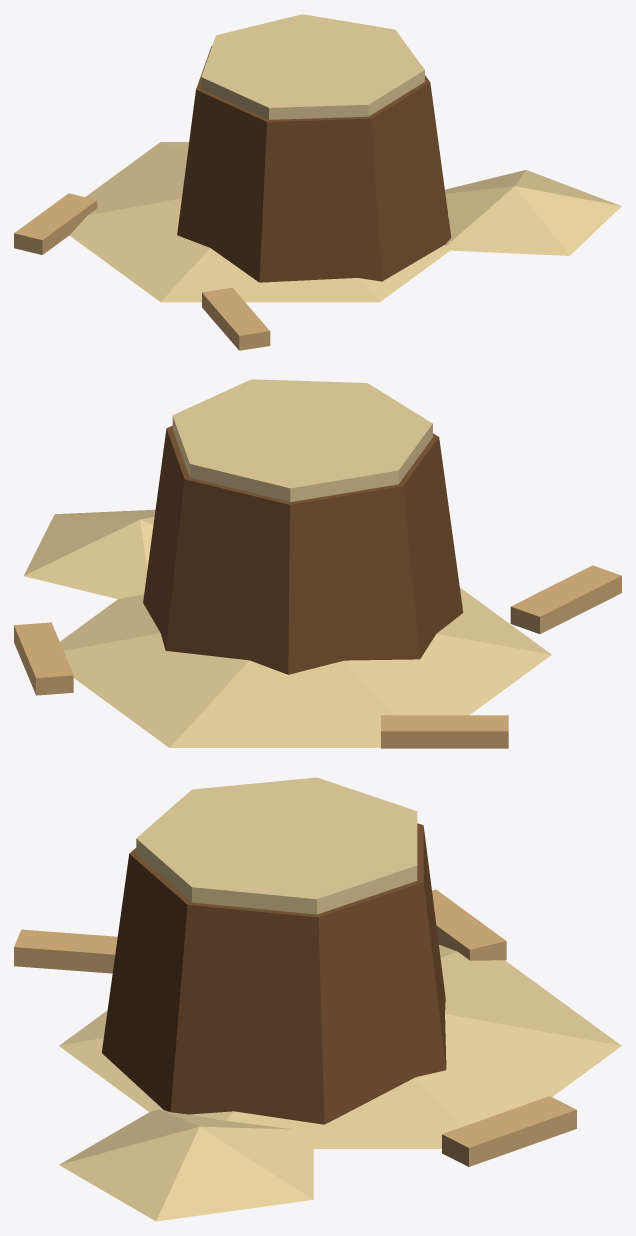
File: toco_serrado.glb
The picture shows the model from 3 angles, top to bottom: view 1: azimuth 30°, elevation 25°; view 2: azimuth 150°, elevation 25°; view 3: azimuth 270°, elevation 25°; orthographic projection. The views are drawn at different scales.
Visible parts, largest first — view 1: corpo; view 2: corpo; view 3: corpo.
Part boxes in pixels (x1,y1,x2,y2): corpo: (14, 14, 621, 350); corpo: (14, 379, 621, 748); corpo: (14, 777, 621, 1221).
Size of the model in its own units: 0.5259 by 0.172 by 0.4318.
